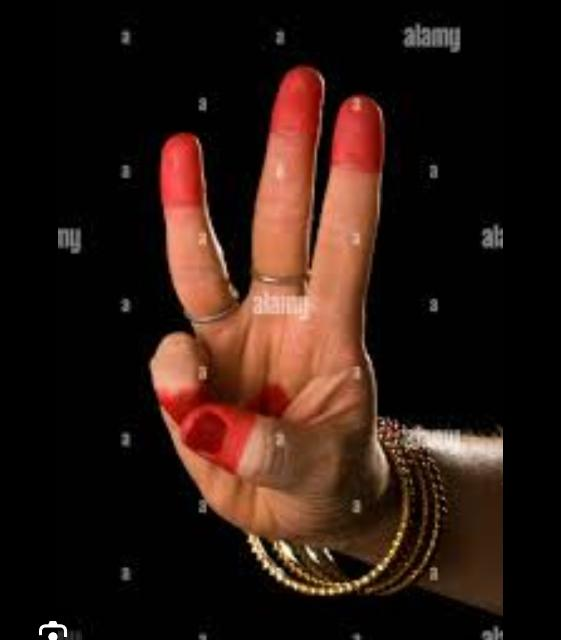trishool: (151, 68, 386, 539)
